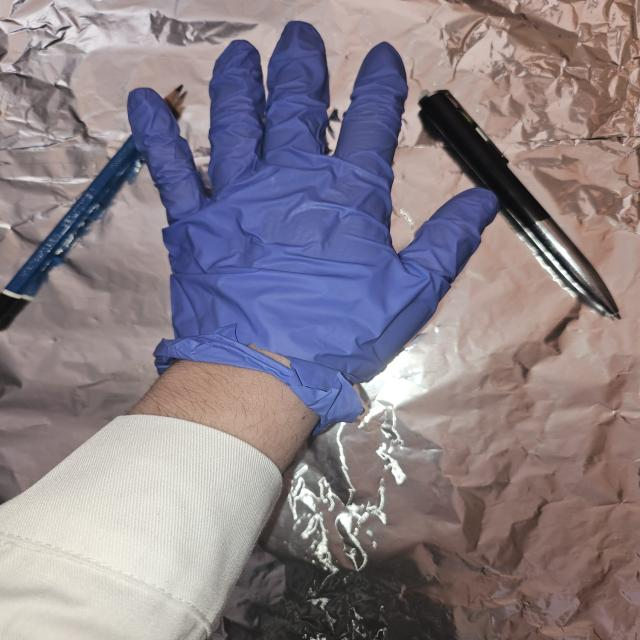gloves_damaged: (127, 19, 500, 432)
